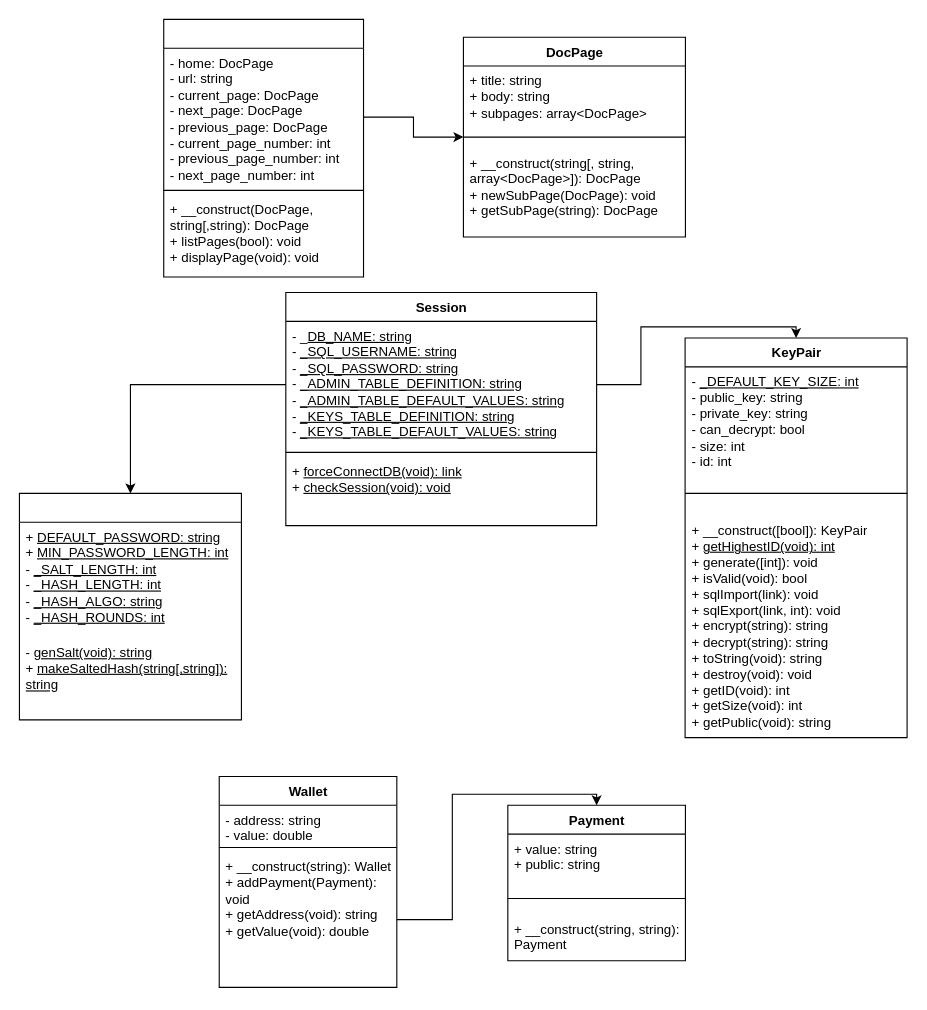
The diagram is 927 pixels wide and 1010 high, and some of its shapes have lost their labels. The shapes that lost their labels are listed below. From the top down, each one's box as (x1, y1, x2, y2) in pixels, then its label:
(163, 18, 364, 277): Documentation
(18, 492, 241, 720): Security
